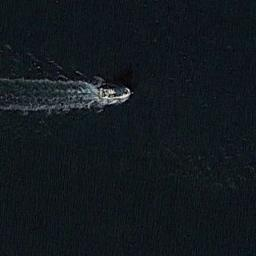boat: (97, 85, 132, 101)
